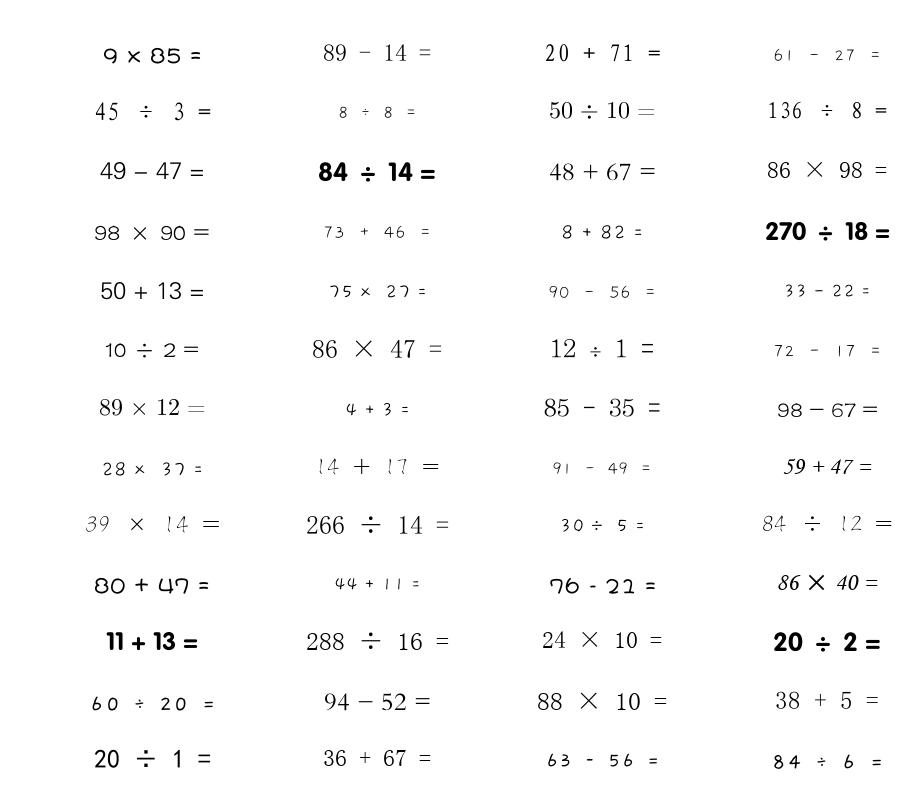MQ: (306, 515, 449, 534), (306, 632, 449, 650), (765, 221, 890, 241), (85, 515, 220, 533), (318, 162, 436, 182), (312, 340, 442, 358), (537, 692, 667, 710), (94, 749, 211, 769), (762, 515, 893, 532), (94, 102, 211, 121), (544, 398, 661, 417), (767, 101, 887, 119), (773, 632, 881, 652), (315, 458, 440, 475), (544, 44, 661, 62), (550, 338, 654, 358), (767, 161, 887, 178), (542, 631, 662, 648), (94, 577, 210, 594), (549, 101, 656, 119), (549, 163, 656, 181), (99, 398, 206, 416), (324, 693, 431, 711), (89, 696, 216, 711), (100, 162, 205, 180), (100, 282, 205, 300), (775, 691, 879, 709), (106, 631, 198, 651), (323, 44, 431, 61), (549, 577, 656, 594), (94, 225, 210, 240), (776, 574, 878, 591), (323, 750, 431, 766), (771, 754, 884, 769), (103, 47, 202, 64), (545, 753, 660, 767), (101, 462, 203, 477), (782, 458, 872, 475), (773, 48, 882, 62), (323, 225, 432, 239), (548, 285, 657, 299), (773, 345, 882, 358), (777, 403, 878, 417), (105, 343, 199, 358), (328, 285, 427, 299), (552, 462, 652, 475), (559, 518, 645, 533), (783, 284, 871, 298), (561, 225, 643, 240), (334, 578, 421, 591), (338, 106, 417, 119), (345, 402, 410, 417)
